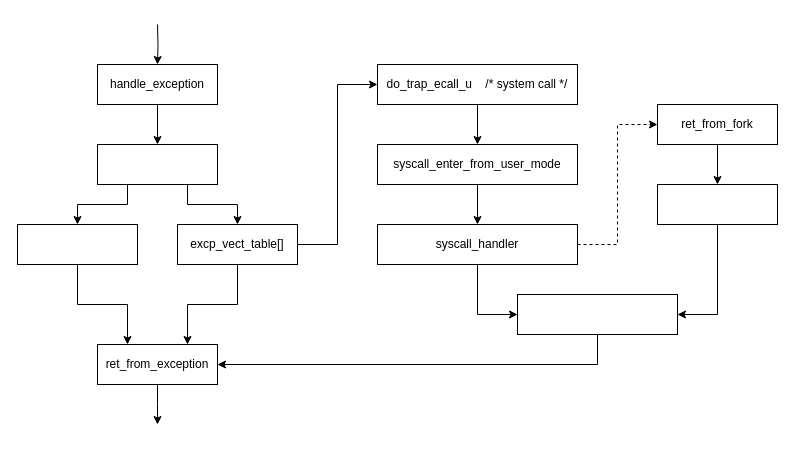
This 795x450 diagram has some shape labels left out. Each missing label, with the centre of its shape:
do_irq: point (77, 244)
save_context: point (157, 164)
schedule_tail: point (717, 204)
syscall_exit_to_user_mode: point (597, 314)
